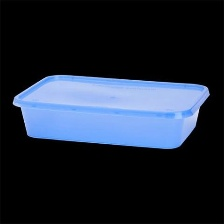plastic_box: (7, 67, 217, 156)
